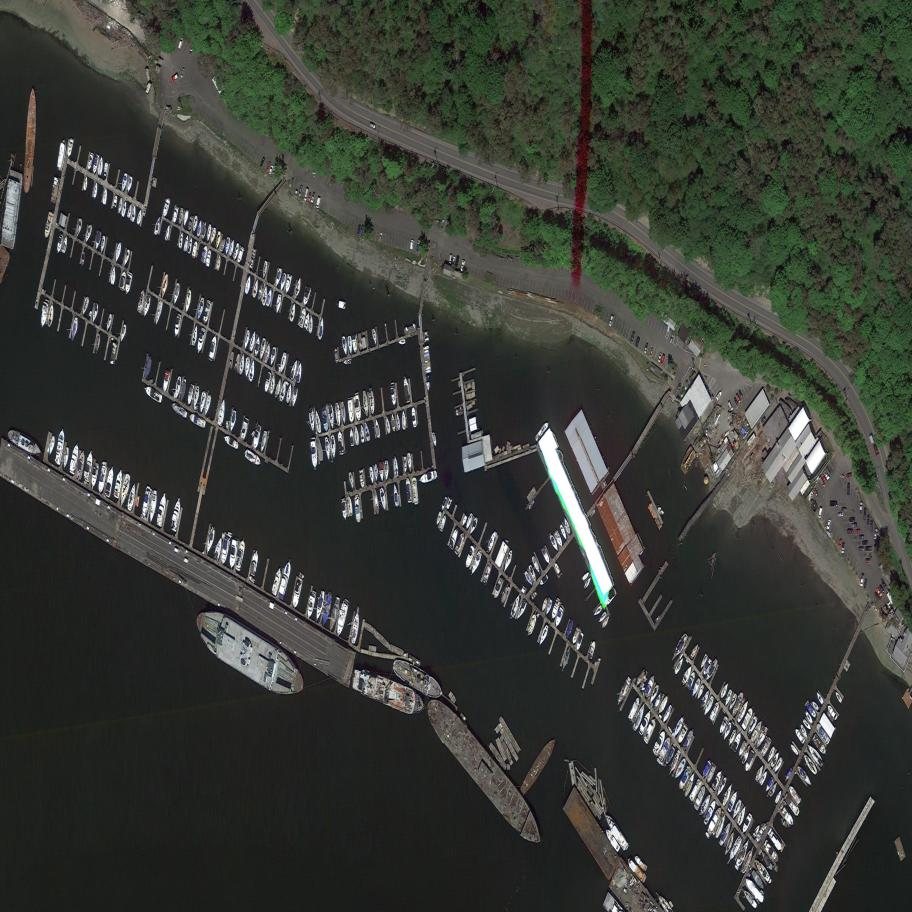large-vehicle: (316, 195, 321, 209)
ship: (413, 684, 557, 859), (179, 594, 326, 711), (555, 786, 628, 883), (345, 664, 434, 720), (384, 652, 453, 707), (514, 731, 563, 800), (0, 168, 24, 251), (22, 87, 39, 195), (2, 425, 48, 462), (601, 810, 633, 853), (496, 713, 523, 756), (676, 443, 701, 478), (742, 874, 768, 906), (624, 854, 650, 885), (498, 728, 521, 763), (668, 631, 691, 665), (485, 740, 509, 772), (724, 833, 745, 868), (752, 856, 775, 887), (277, 559, 293, 602), (614, 674, 634, 708), (733, 837, 752, 871), (804, 741, 827, 769), (705, 804, 724, 837), (761, 838, 783, 866), (764, 826, 786, 853), (602, 826, 623, 854), (739, 844, 757, 875), (241, 447, 266, 469), (532, 419, 553, 445), (335, 600, 349, 638), (328, 596, 342, 634), (631, 701, 647, 734), (809, 733, 830, 758), (141, 383, 166, 404), (656, 734, 674, 763), (800, 751, 820, 777), (813, 721, 833, 747), (717, 819, 734, 849), (702, 797, 719, 827), (651, 728, 668, 758), (777, 803, 797, 828), (54, 428, 67, 466), (119, 472, 132, 510), (155, 491, 168, 528), (350, 605, 362, 645), (740, 887, 760, 911), (637, 708, 654, 736), (626, 695, 643, 723), (170, 497, 183, 533), (55, 137, 68, 173), (730, 690, 746, 719), (692, 783, 708, 812), (682, 770, 698, 799), (754, 724, 770, 753), (642, 717, 658, 746), (676, 765, 693, 792), (687, 777, 704, 804), (795, 764, 814, 788), (140, 485, 153, 520), (749, 868, 767, 893), (722, 830, 738, 858), (713, 813, 729, 841), (147, 489, 159, 526), (703, 657, 720, 683), (672, 756, 689, 782), (68, 442, 81, 476), (234, 539, 247, 573), (186, 411, 209, 430), (697, 792, 713, 819), (749, 718, 765, 745), (667, 751, 682, 779), (740, 705, 756, 731), (112, 468, 125, 500), (321, 592, 333, 626), (314, 589, 326, 623), (83, 449, 95, 483), (220, 533, 232, 567), (470, 548, 484, 577), (893, 835, 908, 862), (735, 698, 750, 725), (786, 784, 804, 806), (38, 298, 50, 331), (169, 402, 191, 420), (228, 536, 239, 571), (205, 525, 217, 557), (631, 853, 650, 873), (602, 587, 620, 608), (453, 530, 467, 557), (494, 737, 508, 764), (514, 597, 529, 622), (759, 850, 776, 872), (75, 450, 87, 481), (271, 566, 283, 597), (49, 175, 61, 206), (726, 788, 740, 814), (721, 782, 735, 808), (643, 673, 657, 699), (105, 465, 116, 498), (292, 577, 303, 610), (701, 694, 716, 718), (681, 727, 696, 751), (126, 482, 138, 512), (216, 397, 228, 427), (43, 211, 55, 241), (97, 464, 108, 496), (509, 593, 522, 620), (501, 548, 514, 575), (464, 543, 477, 570), (735, 803, 749, 828), (730, 797, 744, 822), (672, 715, 686, 740), (745, 714, 759, 739), (743, 749, 757, 774), (417, 470, 440, 485), (553, 604, 566, 630), (492, 576, 505, 602), (195, 326, 206, 356), (560, 646, 573, 671), (526, 612, 539, 637), (498, 582, 511, 607), (485, 530, 498, 555), (708, 700, 722, 723), (740, 812, 754, 835), (676, 723, 690, 746), (759, 736, 773, 759), (663, 745, 677, 768), (656, 693, 670, 716), (647, 683, 661, 706), (221, 435, 241, 451), (306, 591, 317, 620), (481, 562, 494, 586), (213, 535, 224, 563), (805, 701, 820, 721), (715, 775, 728, 798), (705, 763, 718, 786), (740, 743, 753, 766), (501, 740, 514, 763), (136, 288, 147, 315), (90, 462, 100, 491), (250, 549, 260, 578), (538, 623, 550, 647), (448, 527, 460, 551), (673, 655, 686, 677), (681, 664, 694, 686), (711, 769, 724, 791), (661, 703, 674, 725), (731, 730, 743, 753), (753, 763, 766, 784), (634, 668, 647, 689), (310, 437, 318, 471), (825, 703, 840, 721), (202, 299, 212, 326), (208, 334, 218, 361), (160, 273, 170, 300), (793, 727, 807, 746), (550, 598, 562, 620), (690, 677, 702, 699), (548, 533, 560, 555), (530, 554, 542, 576), (402, 375, 411, 404), (701, 657, 714, 677), (718, 681, 731, 701), (240, 417, 250, 443), (252, 424, 262, 450), (540, 545, 552, 566), (727, 692, 739, 713), (70, 315, 79, 343), (228, 410, 238, 435), (173, 375, 183, 400), (700, 760, 713, 779), (316, 436, 325, 463), (155, 300, 164, 327), (80, 295, 91, 317), (354, 494, 362, 524), (561, 516, 573, 536), (553, 529, 565, 549), (722, 721, 734, 741), (143, 356, 153, 380), (172, 282, 182, 306), (247, 359, 257, 383), (688, 642, 701, 660), (109, 341, 118, 367), (184, 289, 193, 315), (143, 293, 152, 319), (162, 368, 171, 394), (192, 385, 201, 411), (571, 625, 582, 646), (686, 670, 697, 691), (527, 563, 538, 584), (718, 715, 729, 736), (699, 689, 711, 708), (769, 750, 781, 769), (767, 780, 779, 799), (379, 487, 388, 512), (124, 272, 133, 297), (203, 393, 212, 418), (354, 394, 362, 422), (347, 396, 355, 424), (803, 710, 816, 727), (565, 618, 575, 640), (723, 688, 734, 708), (766, 745, 777, 765), (773, 755, 784, 775), (469, 515, 479, 537), (152, 216, 162, 238), (405, 477, 413, 504), (368, 389, 376, 416), (317, 317, 326, 341), (263, 371, 272, 395), (173, 313, 182, 337), (186, 383, 195, 407), (258, 337, 267, 361), (575, 631, 585, 652), (591, 604, 605, 619), (464, 512, 474, 533), (523, 569, 534, 588), (799, 722, 810, 741), (581, 575, 594, 591), (91, 302, 100, 325), (47, 304, 56, 327), (91, 153, 100, 176), (114, 241, 123, 264), (260, 285, 269, 308), (279, 352, 288, 375), (308, 407, 316, 432), (390, 382, 398, 407), (197, 297, 205, 322), (764, 776, 775, 794), (758, 769, 769, 787), (120, 172, 129, 194), (55, 233, 64, 255), (162, 197, 171, 219), (289, 359, 298, 381), (279, 380, 288, 402), (294, 276, 303, 298), (284, 273, 293, 295), (274, 293, 283, 315), (248, 330, 257, 352), (328, 403, 335, 431), (412, 477, 419, 505), (362, 390, 369, 418), (260, 430, 268, 454), (788, 742, 800, 758), (179, 378, 187, 402), (696, 683, 706, 702), (558, 523, 568, 542), (335, 402, 342, 429), (75, 218, 84, 239), (298, 307, 307, 328), (303, 286, 312, 307), (279, 272, 288, 293), (265, 286, 274, 307), (238, 353, 246, 376), (191, 324, 199, 347), (199, 391, 207, 414), (264, 342, 272, 365), (322, 406, 329, 432), (373, 490, 380, 516), (801, 718, 814, 732), (588, 640, 597, 660), (600, 615, 612, 630), (597, 610, 609, 625), (727, 729, 737, 747), (737, 740, 747, 758), (784, 766, 794, 784), (85, 224, 94, 244), (751, 823, 762, 839), (94, 333, 102, 355), (48, 435, 56, 457), (62, 447, 70, 469), (119, 270, 127, 292), (295, 362, 303, 384), (291, 386, 299, 408), (274, 377, 282, 399), (243, 329, 251, 351), (392, 483, 399, 508), (324, 436, 331, 461), (330, 434, 337, 459), (315, 409, 322, 434), (337, 430, 344, 455), (439, 514, 448, 533), (200, 245, 209, 264), (699, 653, 709, 670), (492, 722, 505, 735), (66, 138, 74, 159), (94, 230, 102, 251), (61, 234, 69, 255), (244, 275, 252, 296), (252, 278, 260, 299), (285, 383, 293, 404), (269, 374, 277, 395), (275, 267, 283, 288), (243, 357, 251, 378), (269, 346, 277, 367), (447, 690, 458, 705), (833, 690, 844, 705), (545, 598, 554, 616), (341, 498, 348, 521), (553, 562, 563, 578), (773, 789, 783, 805), (120, 323, 128, 343), (97, 157, 105, 177), (182, 208, 190, 228), (205, 223, 213, 243), (191, 240, 199, 260), (815, 690, 825, 706), (303, 311, 311, 331), (289, 303, 297, 323), (261, 260, 269, 280), (538, 574, 550, 587), (254, 335, 261, 357), (540, 597, 549, 614), (653, 693, 662, 710), (110, 265, 117, 286), (364, 421, 371, 442), (215, 229, 222, 250), (351, 333, 358, 354), (580, 570, 592, 582), (435, 510, 443, 528), (237, 246, 245, 264), (779, 817, 790, 830), (714, 389, 725, 402), (810, 699, 821, 712), (348, 471, 355, 491), (106, 313, 113, 333), (87, 152, 94, 172), (99, 235, 106, 255), (390, 413, 397, 433), (234, 352, 241, 372), (192, 214, 199, 234), (233, 242, 240, 262), (393, 455, 399, 478), (92, 181, 99, 200), (126, 176, 133, 195), (117, 197, 124, 216), (228, 351, 235, 370), (172, 206, 179, 225), (177, 208, 184, 227), (196, 219, 203, 238), (201, 221, 208, 240), (210, 227, 217, 246), (187, 236, 194, 255), (224, 237, 231, 256), (257, 282, 264, 301), (347, 495, 353, 517), (384, 460, 390, 482), (354, 424, 360, 446), (407, 452, 413, 473), (121, 200, 128, 218), (136, 208, 143, 226), (411, 407, 417, 428), (164, 224, 171, 242), (215, 254, 222, 272), (228, 240, 235, 258), (347, 335, 353, 356), (342, 335, 348, 356), (378, 462, 384, 482), (369, 466, 375, 486), (359, 469, 365, 489), (341, 401, 346, 425), (349, 427, 355, 447), (385, 415, 391, 435), (401, 410, 407, 430), (102, 188, 109, 205), (183, 235, 190, 252), (375, 419, 381, 438), (359, 424, 365, 443), (372, 328, 378, 347), (461, 514, 469, 528), (431, 431, 438, 447), (187, 215, 194, 231), (296, 570, 307, 580), (131, 205, 137, 223), (124, 249, 130, 267), (308, 316, 314, 334), (441, 496, 448, 511), (219, 238, 226, 253), (445, 498, 453, 511), (83, 175, 89, 192), (178, 232, 184, 249), (206, 250, 212, 267), (112, 194, 119, 208), (127, 203, 133, 219), (80, 250, 86, 266), (374, 464, 379, 482), (403, 456, 408, 473), (396, 413, 401, 430), (334, 347, 339, 364), (103, 162, 108, 178), (397, 338, 407, 346), (426, 376, 430, 392), (250, 429, 257, 438), (135, 496, 140, 508), (343, 358, 351, 365), (88, 310, 93, 318), (226, 420, 229, 430)
small-vehicle: (873, 591, 882, 603), (822, 469, 830, 482), (608, 314, 615, 328), (873, 444, 880, 458), (818, 476, 826, 488), (630, 330, 636, 345), (875, 588, 884, 598), (727, 401, 735, 412), (734, 393, 742, 404), (820, 473, 828, 484), (825, 466, 833, 477), (877, 583, 885, 594), (303, 188, 309, 202), (310, 191, 316, 205), (460, 260, 466, 274), (298, 184, 304, 198), (812, 487, 819, 499), (169, 74, 179, 82), (760, 414, 768, 424), (359, 224, 365, 237), (660, 354, 666, 367), (178, 36, 184, 49), (873, 527, 879, 540), (265, 161, 271, 173), (368, 122, 377, 130), (643, 342, 649, 354), (669, 333, 675, 345), (180, 67, 186, 79), (817, 507, 823, 519), (259, 157, 266, 167), (880, 579, 887, 589), (860, 573, 865, 587), (268, 165, 274, 176), (451, 255, 456, 267), (635, 335, 640, 347), (733, 396, 739, 406), (738, 389, 744, 399), (859, 500, 863, 515), (826, 519, 831, 531), (838, 537, 843, 549), (863, 507, 867, 521), (448, 254, 453, 265), (455, 258, 460, 269), (649, 347, 654, 358), (657, 352, 662, 363), (863, 578, 868, 589), (830, 500, 838, 506), (841, 542, 845, 554), (677, 382, 682, 391), (308, 192, 312, 203), (379, 232, 383, 243), (858, 546, 865, 552), (847, 528, 854, 534), (357, 224, 361, 234), (410, 240, 414, 250), (870, 518, 873, 531), (847, 483, 850, 496), (862, 540, 868, 546), (846, 472, 852, 478), (865, 558, 872, 563), (849, 517, 856, 522), (867, 514, 870, 525), (859, 534, 864, 540), (865, 546, 871, 551), (841, 507, 847, 512), (852, 523, 858, 528), (837, 512, 844, 516), (856, 529, 861, 534)
